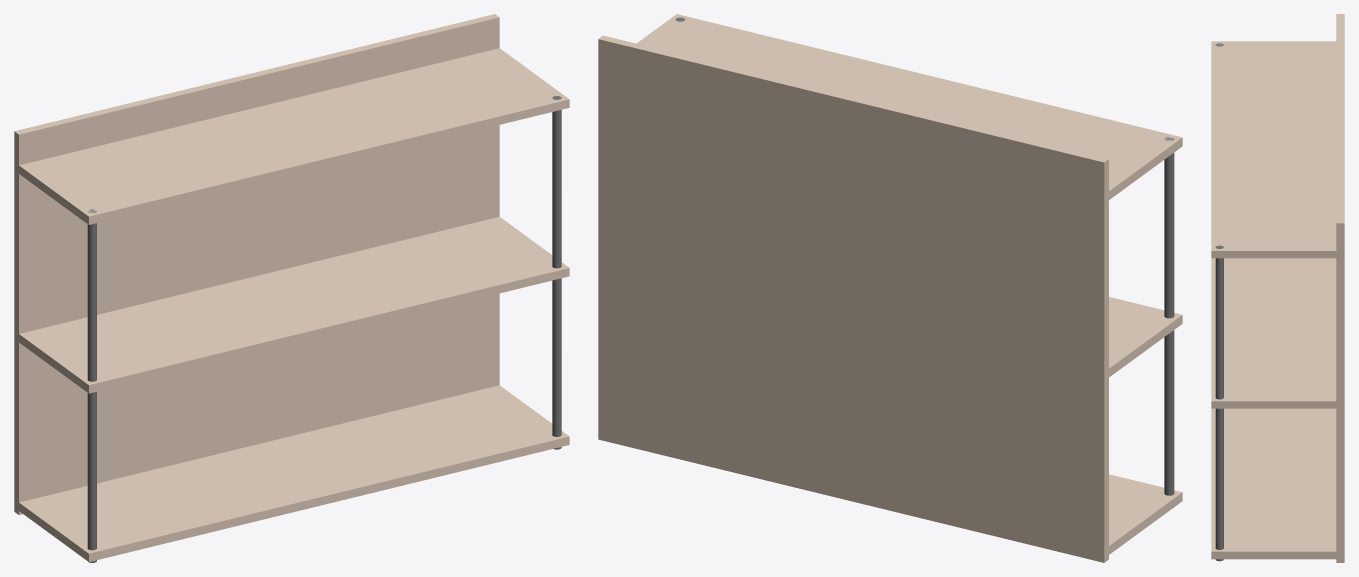
3 views of the same model, side by side, from view 1: azimuth 30°, elevation 25°; view 2: azimuth 150°, elevation 25°; view 3: azimuth 270°, elevation 25° (orthographic). The views are drawn at different scales.
Parts seen in each view (by area): view 1: Body; view 2: Body; view 3: Body.
Part boxes in pixels (x1,y1,x2,y2): Body: (14, 14, 569, 562); Body: (598, 14, 1182, 562); Body: (1211, 14, 1344, 562).
Size of the model in its own units: 119 by 90.3 by 32.1.
